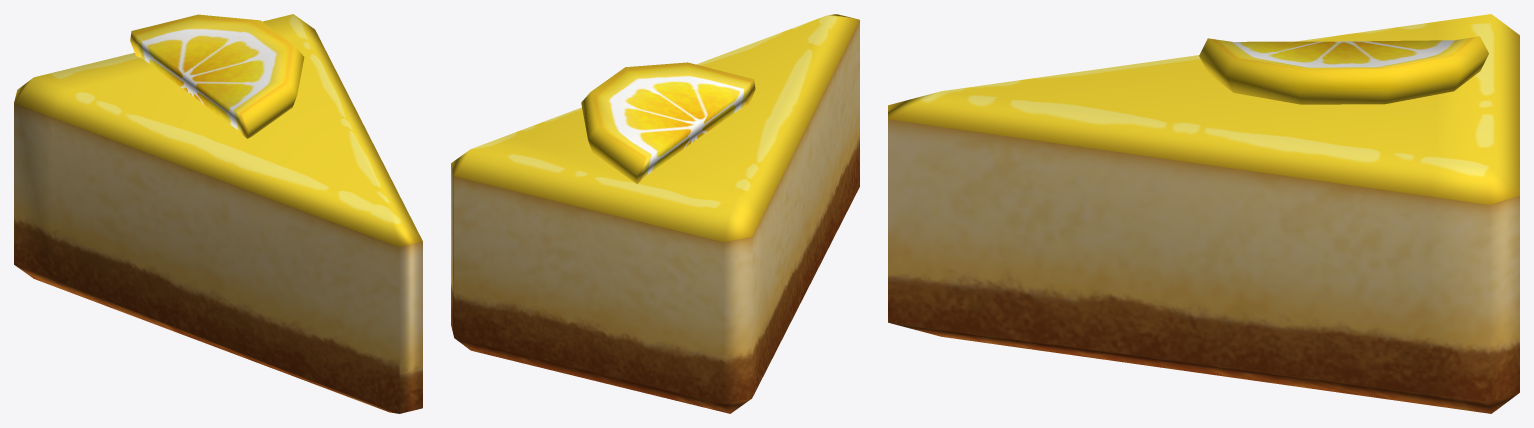
Rendered from Lemon_Cheesecake_Slice.fbx.
3 renders of one model, left to right at view 1: azimuth 30°, elevation 25°; view 2: azimuth 150°, elevation 25°; view 3: azimuth 270°, elevation 25°, orthographic. The views are drawn at different scales.
Visible parts, largest first — view 1: Lemon_Cheesecake_Slice; view 2: Lemon_Cheesecake_Slice; view 3: Lemon_Cheesecake_Slice.
Part boxes in pixels (x1,y1,x2,y2): Lemon_Cheesecake_Slice: (14, 14, 422, 413); Lemon_Cheesecake_Slice: (451, 14, 859, 413); Lemon_Cheesecake_Slice: (888, 14, 1519, 413).
Bounding box in the file's own units: 26.02 × 20.28 × 38.81.
